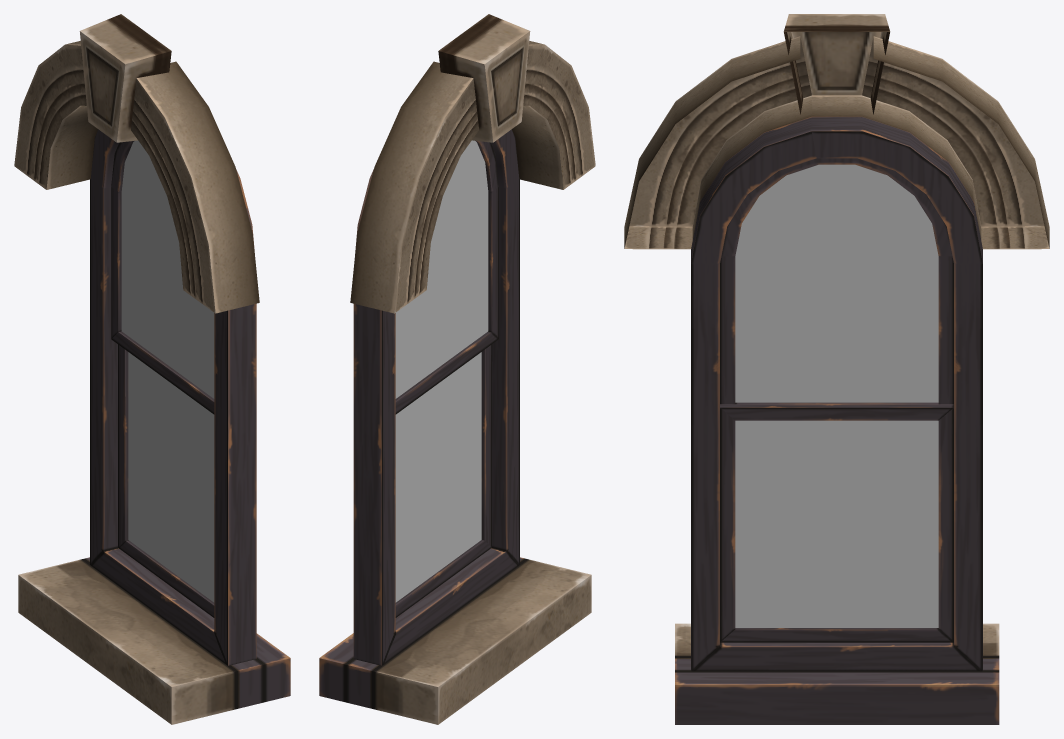
File: window08.FBX
3 views of the same model, side by side, from view 1: azimuth 30°, elevation 25°; view 2: azimuth 150°, elevation 25°; view 3: azimuth 270°, elevation 25° (orthographic). The views are drawn at different scales.
Parts seen in each view (by area): view 1: window08_frame, window08_glass02, window08_glass01, window08_slide; view 2: window08_frame, window08_glass02, window08_glass01, window08_slide; view 3: window08_frame, window08_glass01, window08_glass02, window08_slide.
Boxes of the visible parts, box(x1,y1,x2,y2) form: window08_frame: box(14, 14, 290, 724); window08_glass02: box(128, 352, 214, 602); window08_glass01: box(121, 140, 214, 398); window08_slide: box(118, 344, 214, 617); window08_frame: box(319, 14, 595, 724); window08_glass02: box(395, 352, 481, 602); window08_glass01: box(395, 140, 488, 398); window08_slide: box(395, 344, 492, 617); window08_frame: box(624, 14, 1049, 724); window08_glass01: box(735, 164, 938, 402); window08_glass02: box(735, 420, 938, 627); window08_slide: box(720, 404, 953, 642).
Bounding box in the file's own units: 44.74 × 224 × 131.
